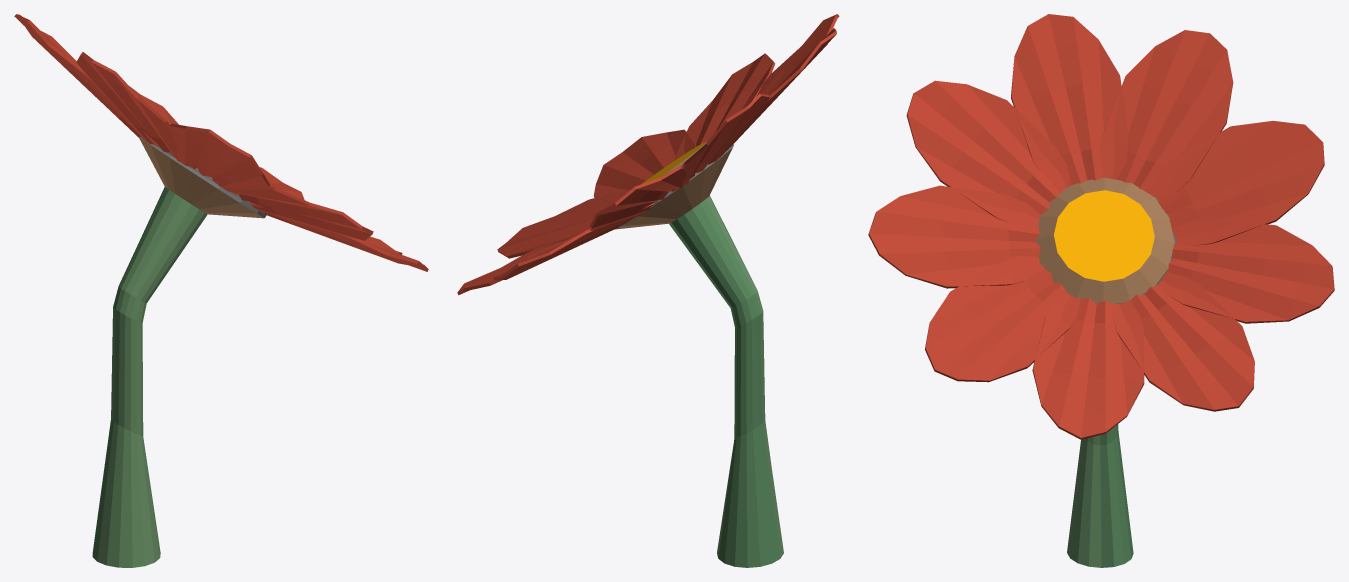
The model's file is Flower.fbx.
3 renders of one model, left to right at view 1: azimuth 30°, elevation 25°; view 2: azimuth 150°, elevation 25°; view 3: azimuth 270°, elevation 25°, orthographic. The views are drawn at different scales.
Visible parts, largest first — view 1: Flower; view 2: Flower; view 3: Flower.
Boxes of the visible parts, x1,y1,x2,y2 form: Flower: (14,14,428,567); Flower: (457,14,839,567); Flower: (868,14,1334,567).
Bounding box in the file's own units: 59.23 × 93.04 × 76.78.
